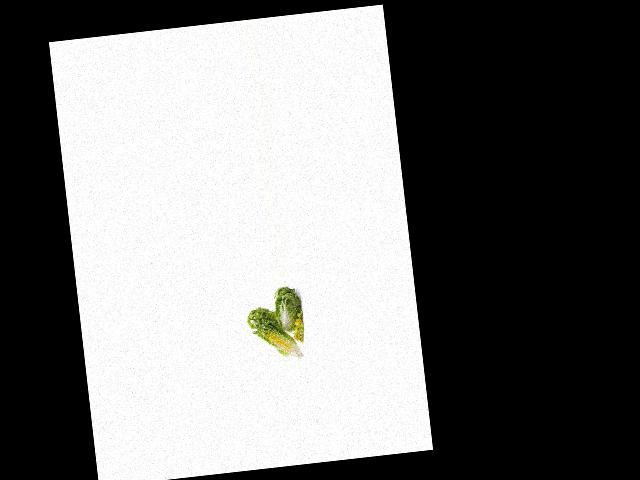lettuce: (271, 286, 307, 339)
